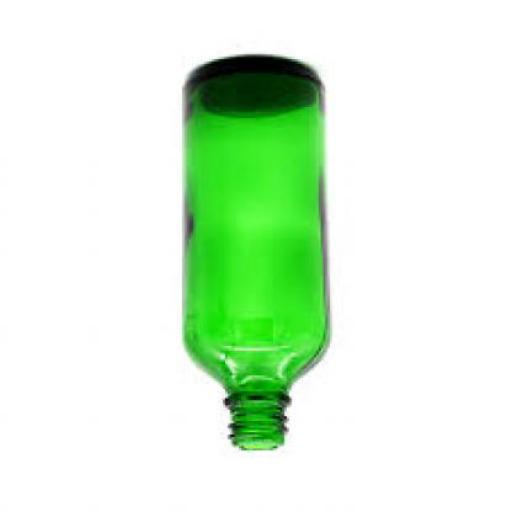glass: (184, 59, 323, 455)
